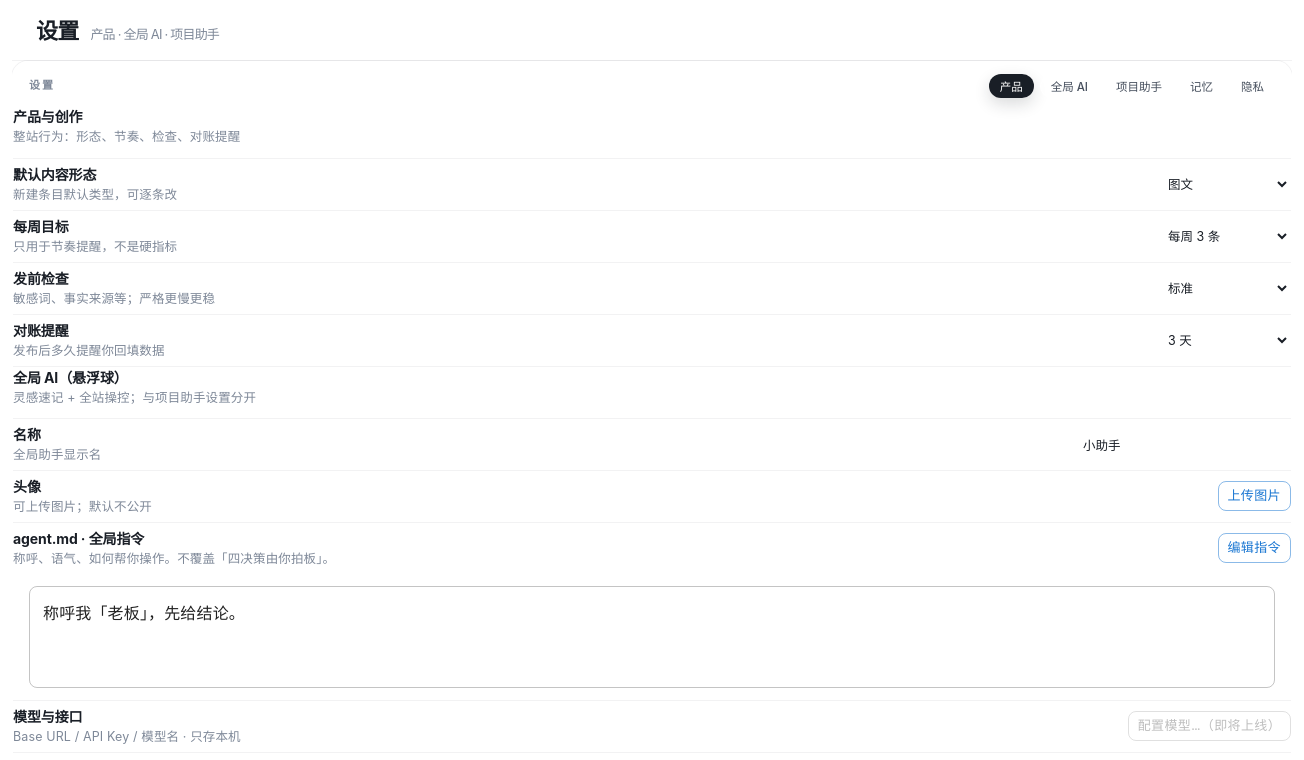
Test case: SettingsPage › reports a weekly goal save failure
Expected: the text "默认内容形态" is shown, [13,166,96,183]
Select "每周 1 条" in the dropdown named "每周目标": (1221, 236) [1151,220,1291,252]
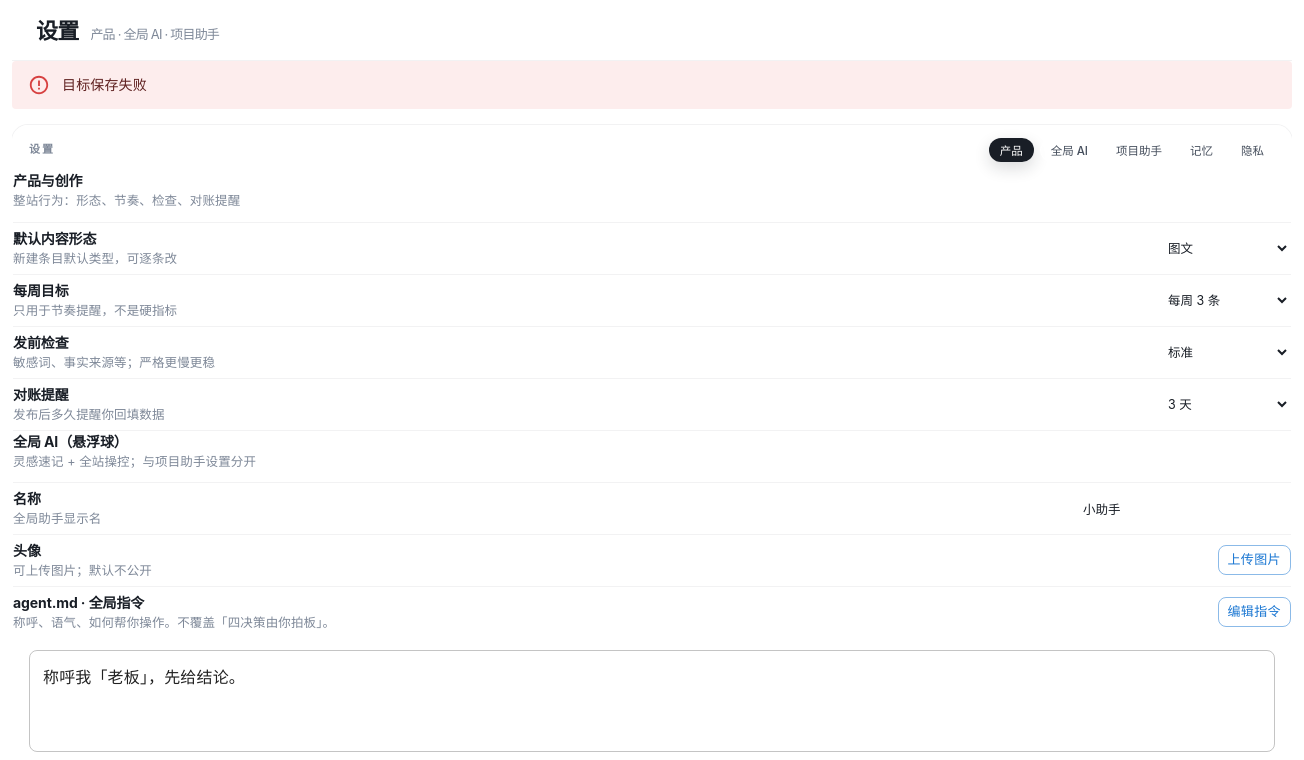
Expected: the message reads "目标保存失败", [62,76,147,92]
